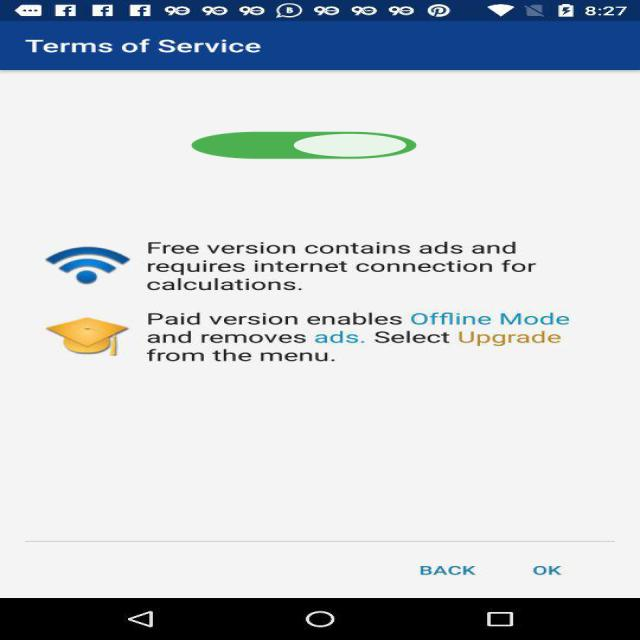social proof: (181, 122, 427, 172)
